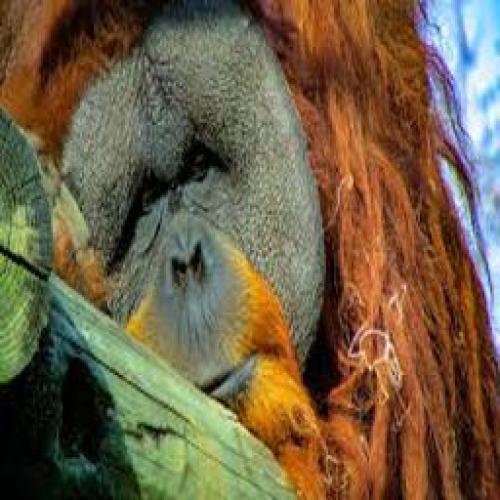orangutan-endangered: (0, 0, 492, 489)
